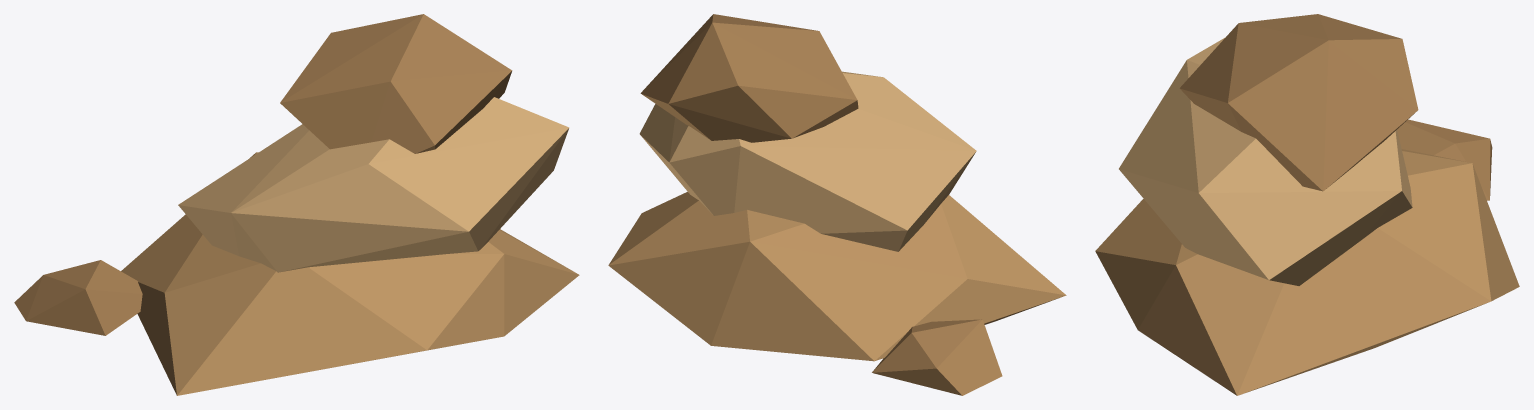
The model's file is desert_rock.glb.
3 views of the same model, side by side, from view 1: azimuth 30°, elevation 25°; view 2: azimuth 150°, elevation 25°; view 3: azimuth 270°, elevation 25° (orthographic). The views are drawn at different scales.
Visible parts, largest first — view 1: desert_rock; view 2: desert_rock; view 3: desert_rock.
Part boxes in pixels (x1=…): desert_rock: x1=14, y1=14, x2=579, y2=395; desert_rock: x1=608, y1=14, x2=1066, y2=395; desert_rock: x1=1095, y1=14, x2=1519, y2=395.
Size of the model in its own units: 3.38 by 1.79 by 2.36.
